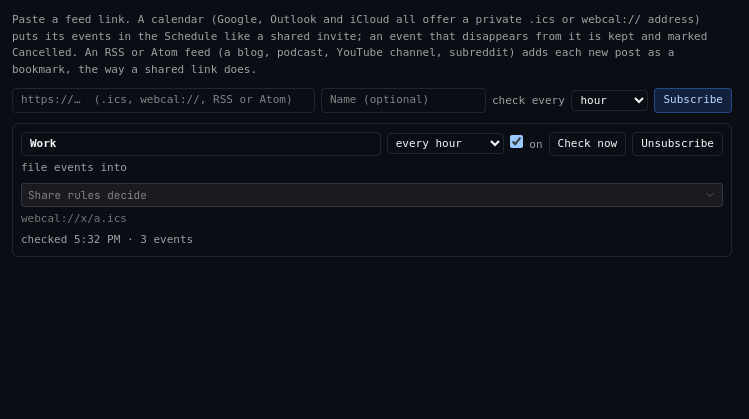
Scenario: Imports › Feeds › lists feeds and subscribes a new one
Check: the field showing "Work" is shown, box [21, 132, 381, 156]
Check: the text "checked 5:32 PM · 3 events" is shown, box [21, 232, 193, 246]
Type "https://y/b.ics" into the field named "Feed link" at (163, 100), box [12, 88, 315, 112]
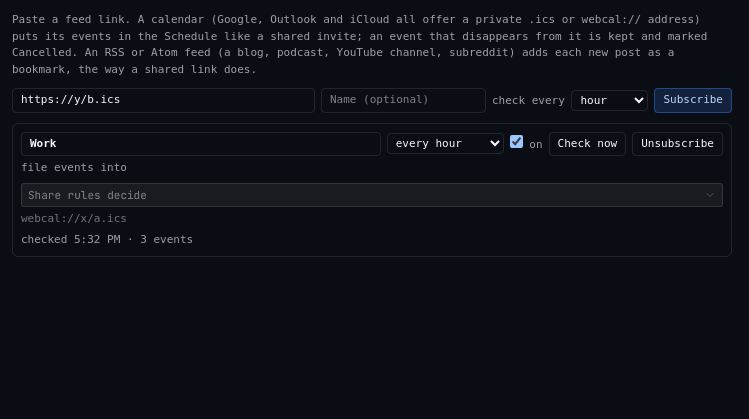
Click the button "Subscribe" at (693, 100), box [654, 88, 732, 112]
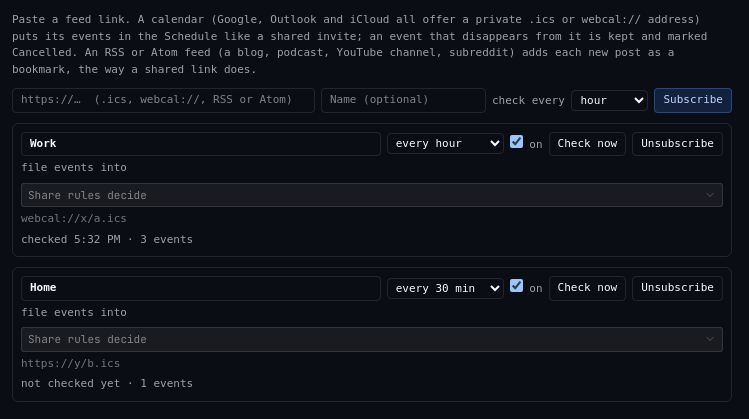
Check: the 2nd field showing "Home" is shown, box [21, 276, 381, 300]
